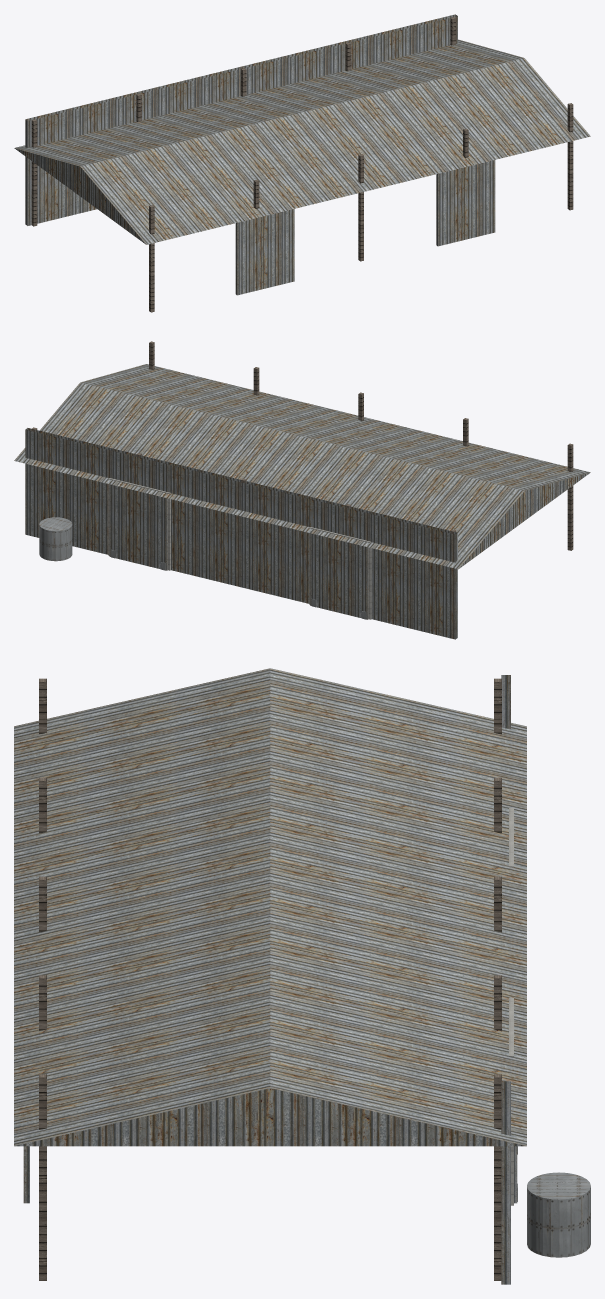
Rendered from equipment-shed_lod0.gltf.
3 renders of one model, top to bottom at view 1: azimuth 30°, elevation 25°; view 2: azimuth 150°, elevation 25°; view 3: azimuth 270°, elevation 25°, orthographic. The views are drawn at different scales.
Parts seen in each view (by area): view 1: equipment-shed_roof, equipment-shed_walls, equipment-shed__sliding_door_b, equipment-shed__sliding_door_a, equipment-shed_posts; view 2: equipment-shed_roof, equipment-shed_walls, equipment-shed_fen_21-corrugated-steel_1, equipment-shed_posts, equipment-shed__fuel_tank, equipment-shed_fen_15-concrete-boardformed_0; view 3: equipment-shed_roof, equipment-shed_posts, equipment-shed__fuel_tank, equipment-shed_walls.
Part boxes in pixels (x1=…): equipment-shed_roof: x1=14, y1=39, x2=590, y2=244; equipment-shed_walls: x1=25, y1=14, x2=457, y2=225; equipment-shed__sliding_door_b: x1=436, y1=160, x2=495, y2=246; equipment-shed__sliding_door_a: x1=235, y1=209, x2=294, y2=295; equipment-shed_posts: x1=31, y1=17, x2=573, y2=312; equipment-shed_roof: x1=14, y1=364, x2=590, y2=569; equipment-shed_walls: x1=25, y1=428, x2=457, y2=639; equipment-shed_fen_21-corrugated-steel_1: x1=109, y1=484, x2=368, y2=619; equipment-shed_posts: x1=31, y1=341, x2=573, y2=550; equipment-shed__fuel_tank: x1=39, y1=517, x2=72, y2=561; equipment-shed_fen_15-concrete-boardformed_0: x1=108, y1=478, x2=371, y2=619; equipment-shed_roof: x1=14, y1=668, x2=526, y2=1146; equipment-shed_posts: x1=39, y1=678, x2=501, y2=1280; equipment-shed__fuel_tank: x1=527, y1=1172, x2=590, y2=1257; equipment-shed_walls: x1=501, y1=675, x2=510, y2=1284.
Size of the model in its own units: 31 by 7 by 18.
